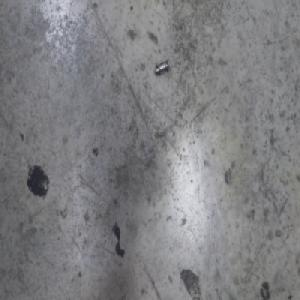Bolt: (154, 59, 169, 78)
